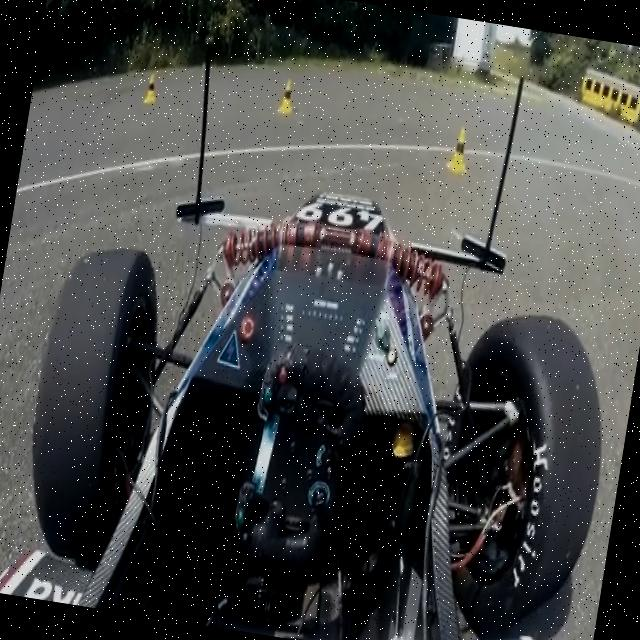yellow_cone: (444, 126, 474, 176), (278, 78, 298, 115), (142, 72, 161, 108)
